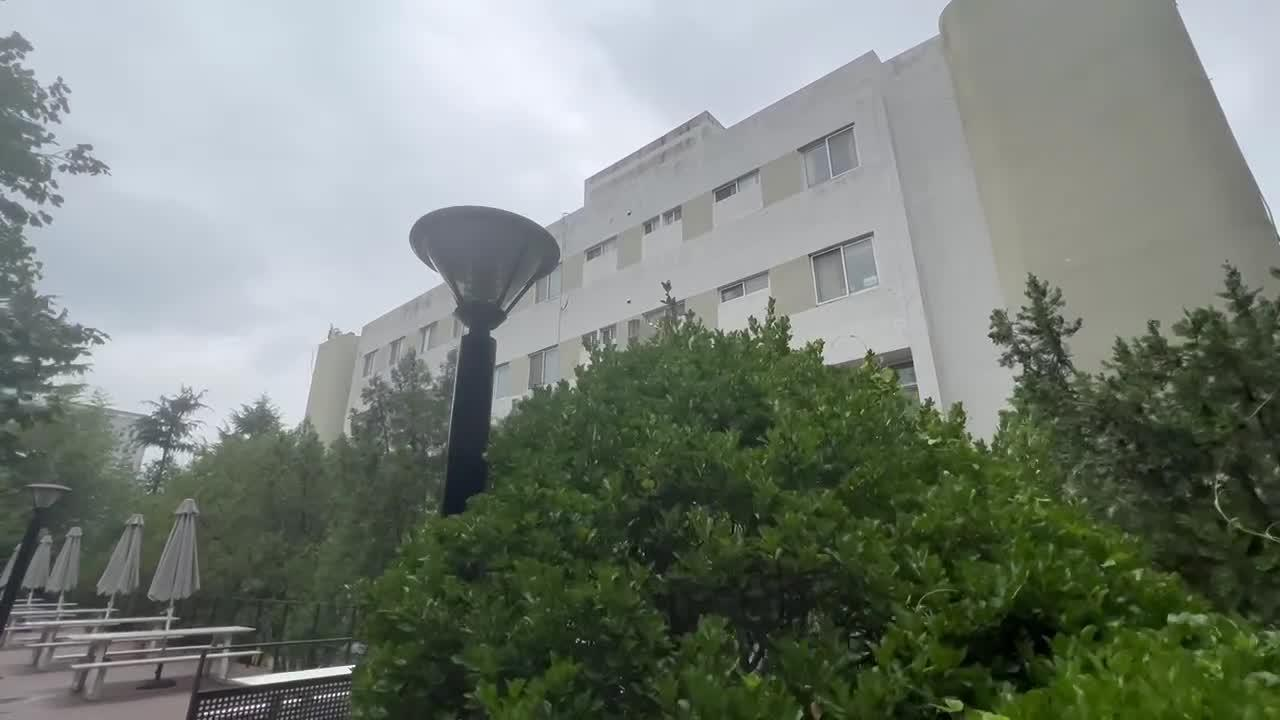building: (576, 14, 1237, 326)
